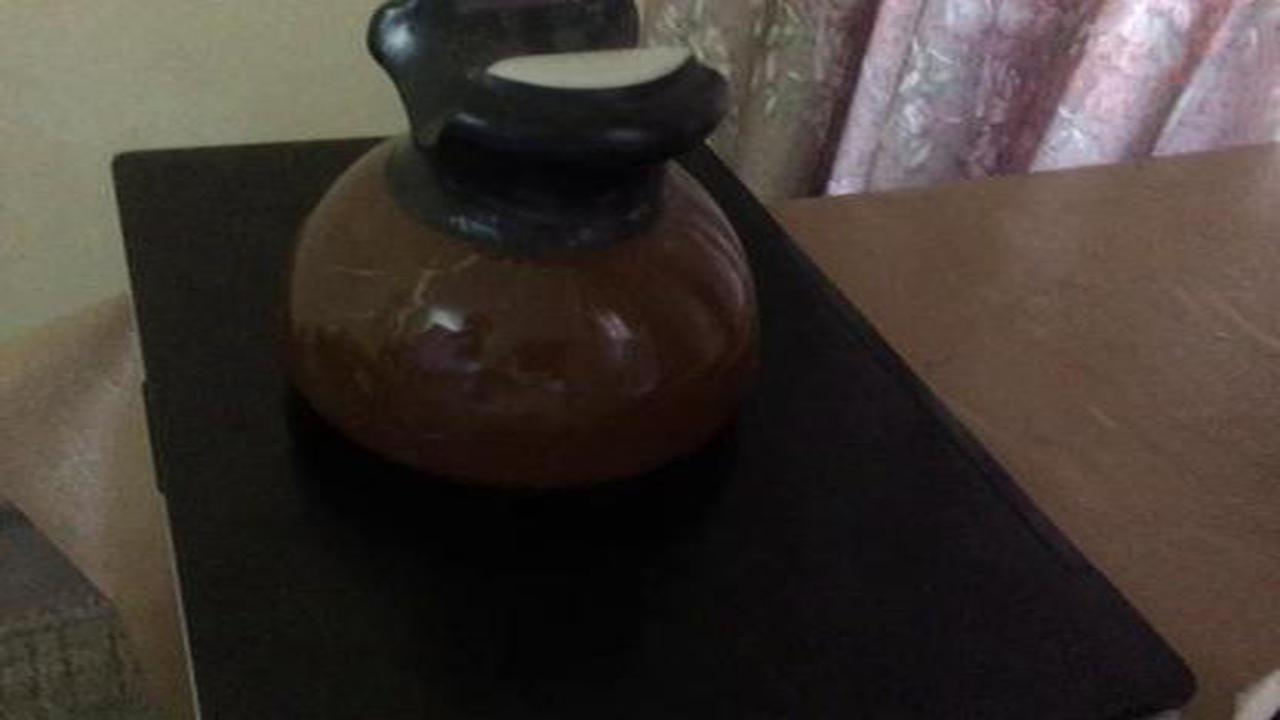insulator_pin: (256, 6, 788, 502)
